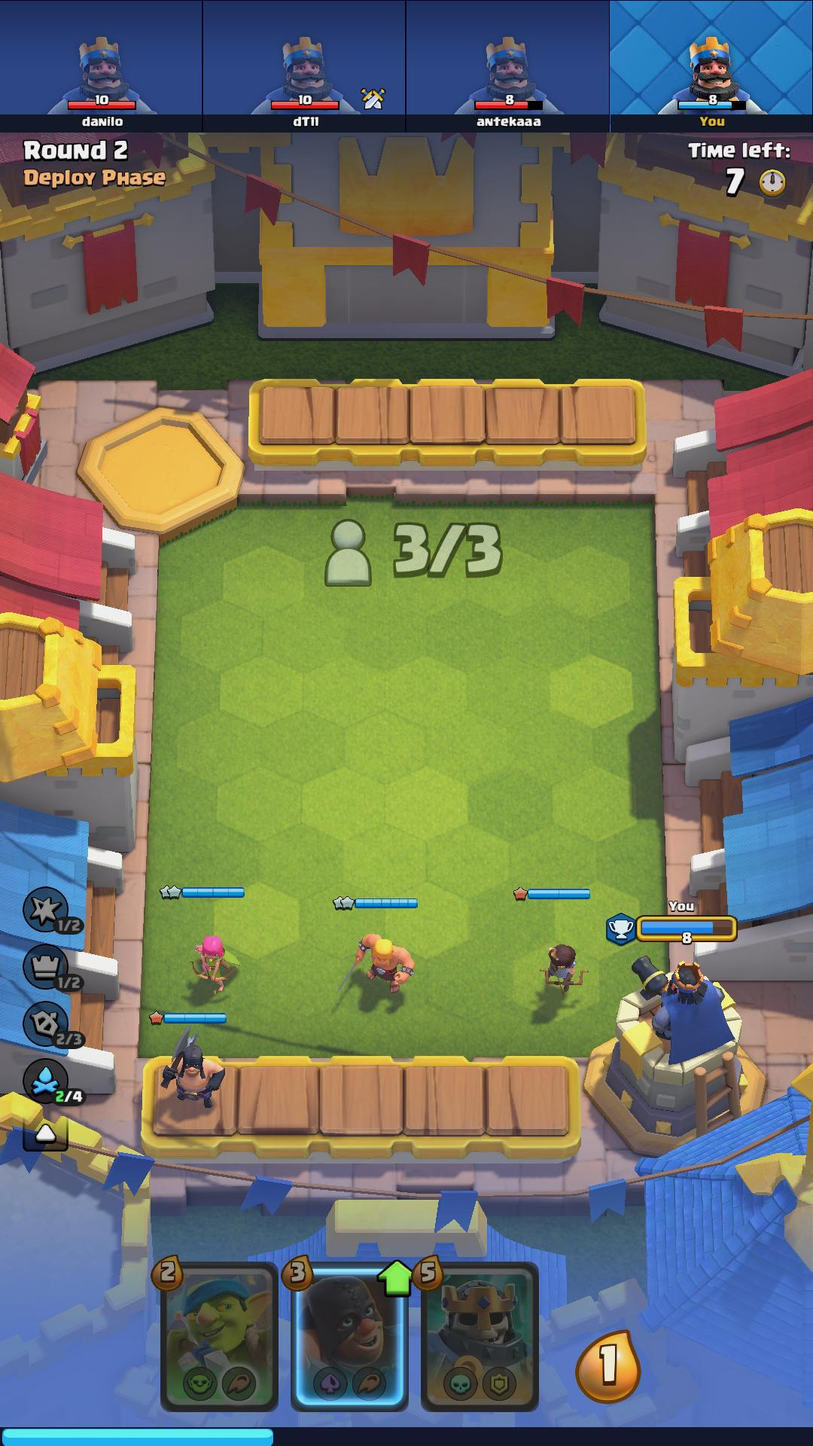archer: (186, 932, 242, 997)
barbarian: (342, 926, 414, 997)
executioner: (165, 1034, 222, 1110)
hand-executioner: (289, 1266, 408, 1405)
hand-king: (421, 1266, 538, 1409)
hand-spear: (160, 1266, 275, 1407)
princess: (534, 937, 588, 997)
upgrade: (377, 1257, 416, 1300)
